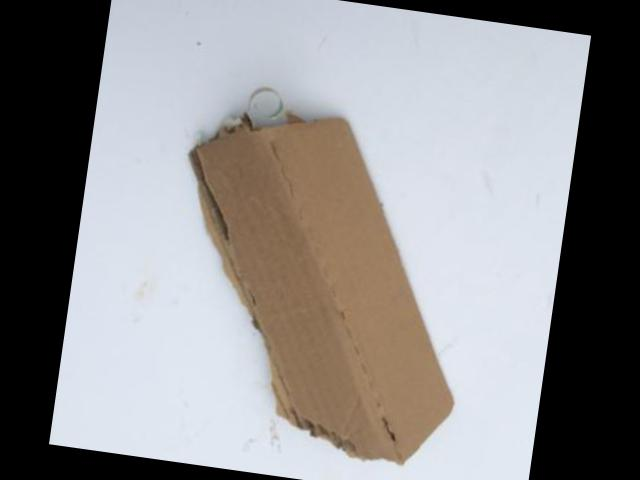cardboard paper: (194, 120, 455, 465)
